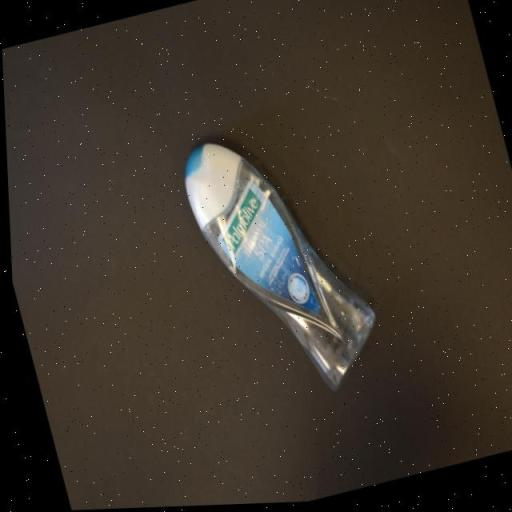plastic: (170, 109, 391, 417)
